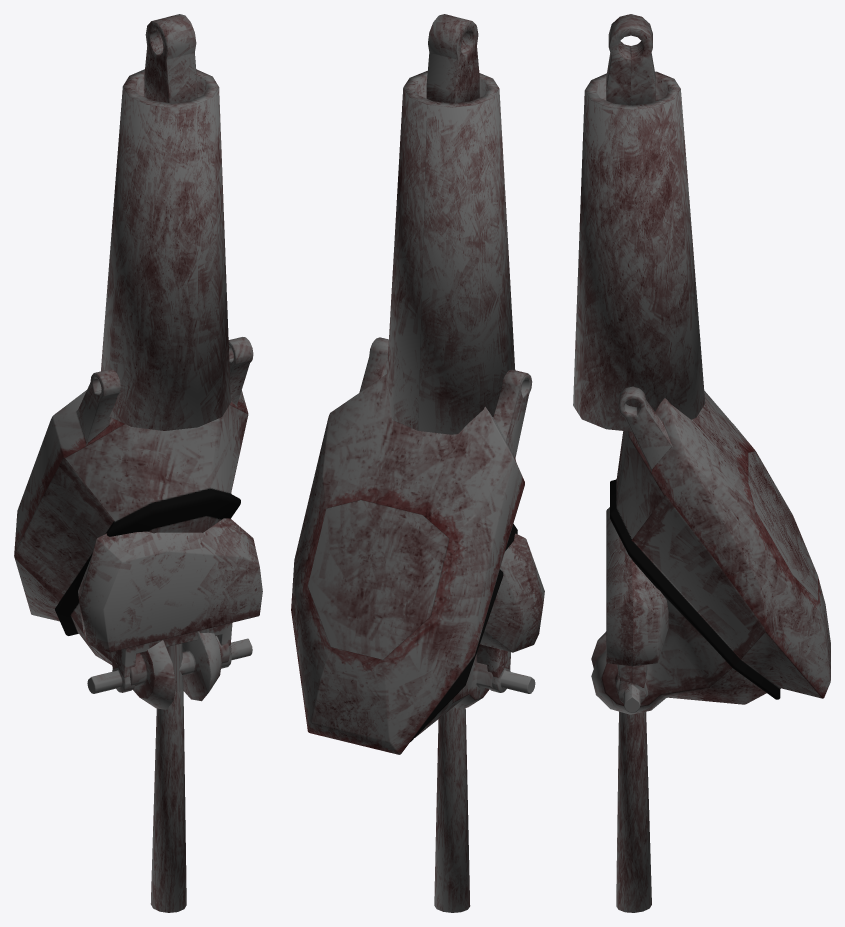
Rendered from legMOCK.glb.
The picture shows the model from 3 angles, left to right: view 1: azimuth 30°, elevation 25°; view 2: azimuth 150°, elevation 25°; view 3: azimuth 270°, elevation 25°; orthographic projection.
Parts seen in each view (by area): view 1: 0, 1, 2, 3; view 2: 1, 0, 3, 2; view 3: 1, 0, 2, 3.
Boxes of the visible parts, left/top/right/bottom form: 0: left=101, top=14, right=230, bottom=430; 1: left=14, top=337, right=253, bottom=709; 2: left=78, top=518, right=262, bottom=693; 3: left=150, top=643, right=186, bottom=912; 1: left=291, top=337, right=532, bottom=754; 0: left=386, top=14, right=515, bottom=434; 3: left=434, top=707, right=470, bottom=912; 2: left=476, top=533, right=544, bottom=693; 1: left=591, top=386, right=830, bottom=714; 0: left=573, top=14, right=705, bottom=431; 2: left=606, top=507, right=668, bottom=712; 3: left=616, top=711, right=651, bottom=912.
Bounding box in the file's own units: 0.6404 × 2.92 × 0.7704.
Materials: 1 (1 with a texture image).
